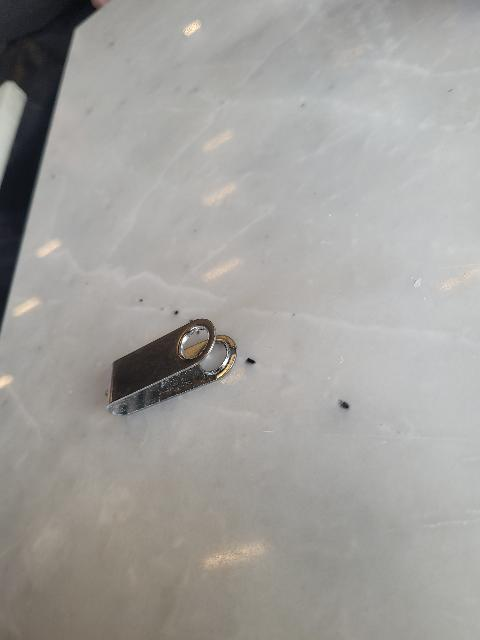Metal: (96, 310, 264, 419)
